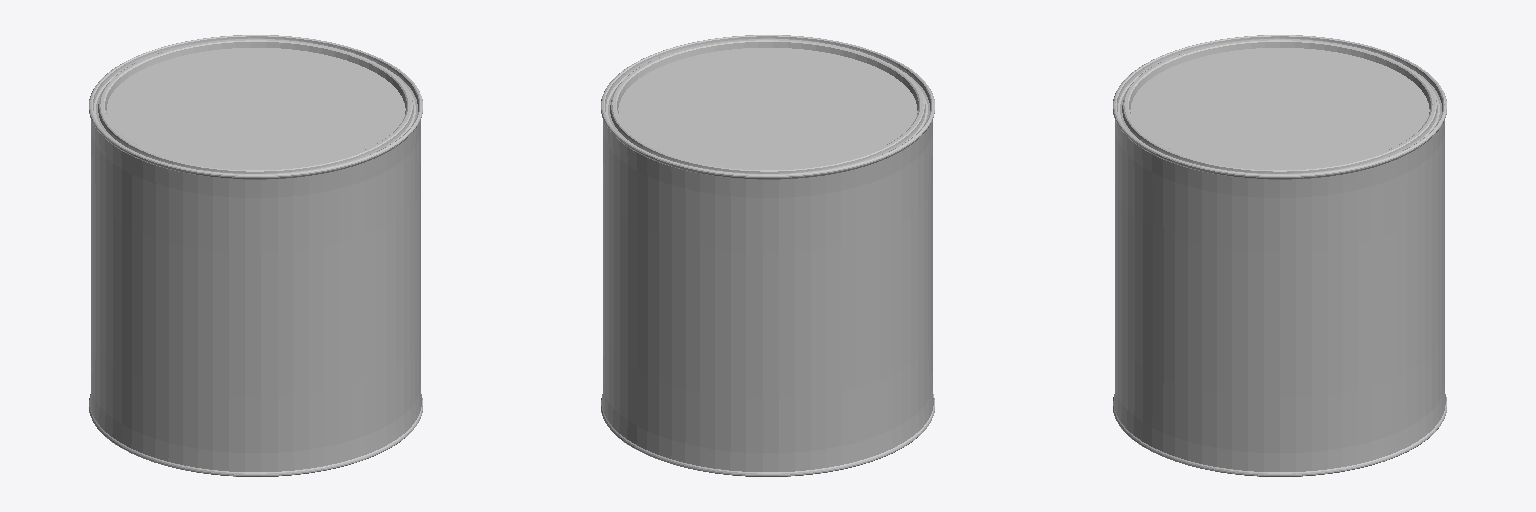
The model's file is Paint Can.obj.
3 views of the same model, side by side, from view 1: azimuth 30°, elevation 25°; view 2: azimuth 150°, elevation 25°; view 3: azimuth 270°, elevation 25° (orthographic).
Visible parts, largest first — view 1: Cylinder; view 2: Cylinder; view 3: Cylinder.
Part boxes in pixels (left/top/right/bottom): Cylinder: left=89, top=35, right=422, bottom=476; Cylinder: left=601, top=35, right=934, bottom=476; Cylinder: left=1113, top=35, right=1446, bottom=476.
Bounding box in the file's own units: 2.01 × 2 × 2.01.